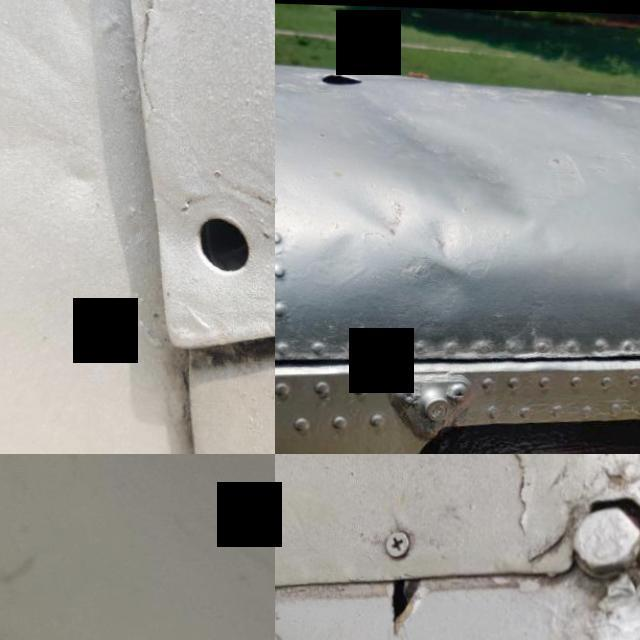Crack: (357, 552, 450, 640)
Dent: (366, 90, 560, 240), (402, 249, 473, 324), (618, 216, 640, 309)
Missing_Fastener: (146, 163, 275, 328)
